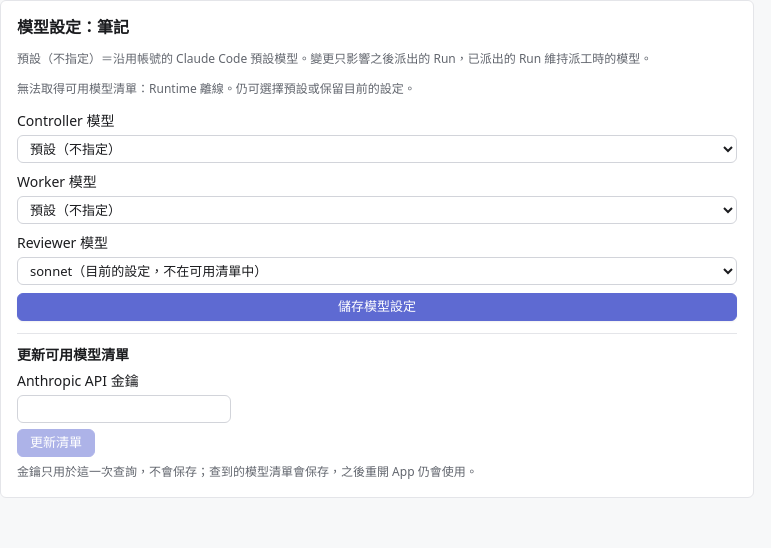
模型設定 › 取不到可用模型清單時頁面照常運作：仍可選預設或保留目前的值，並說明原因
Expected: the text "無法取得可用模型清單：Runtime 離線。仍可選擇預設或保留目前的設定。" is shown, [17,80,416,97]
Step 1. Select "預設（不指定）" in the dropdown labelled "Reviewer 模型" → (377, 271), box [17,257,737,285]
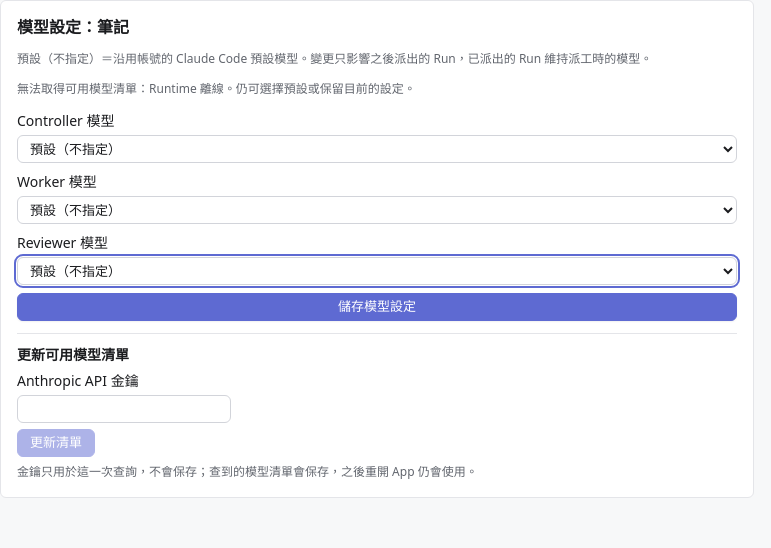
Step 2. Click the button "儲存模型設定" → (377, 307), box [17,293,737,321]
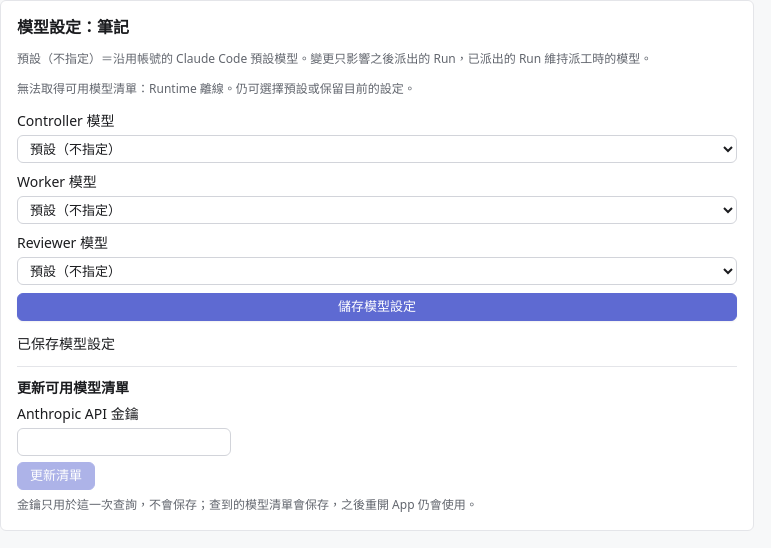
Result: the message reads "已保存模型設定" at [17,334,115,353]
